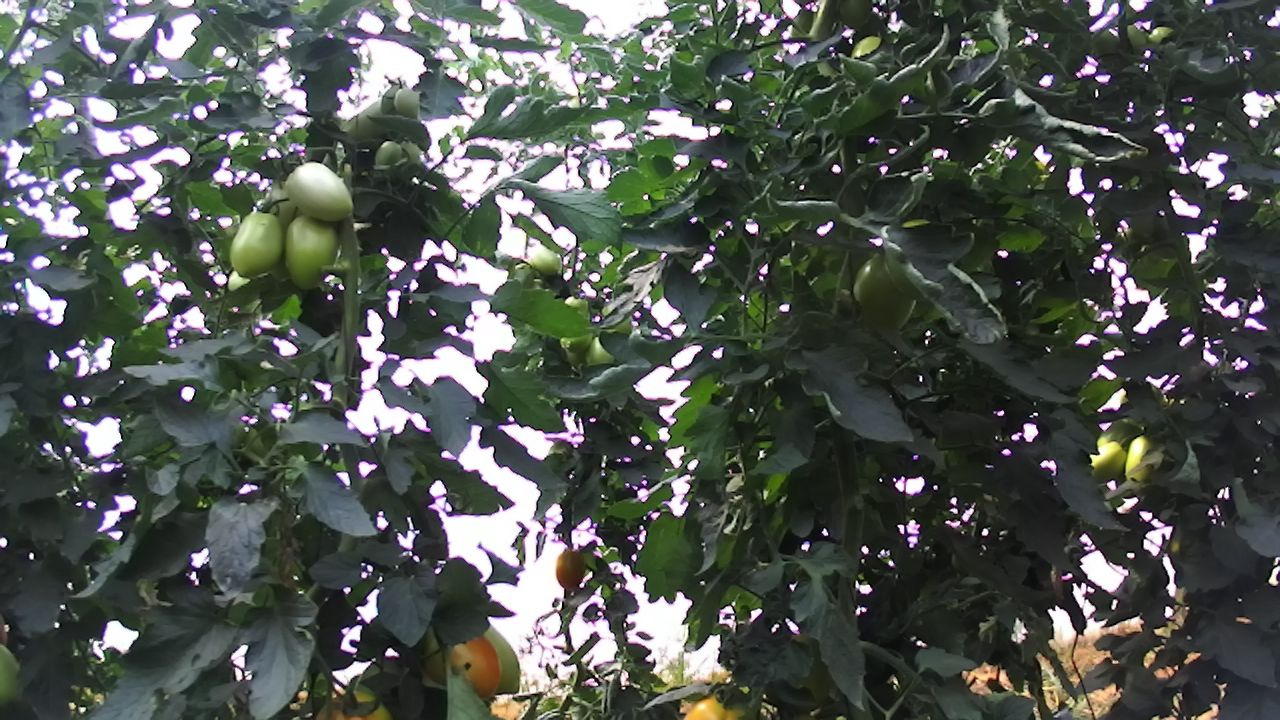tomato: (280, 154, 355, 224), (281, 209, 340, 294), (225, 209, 286, 280), (554, 547, 587, 592), (527, 245, 565, 280), (393, 85, 424, 121)
